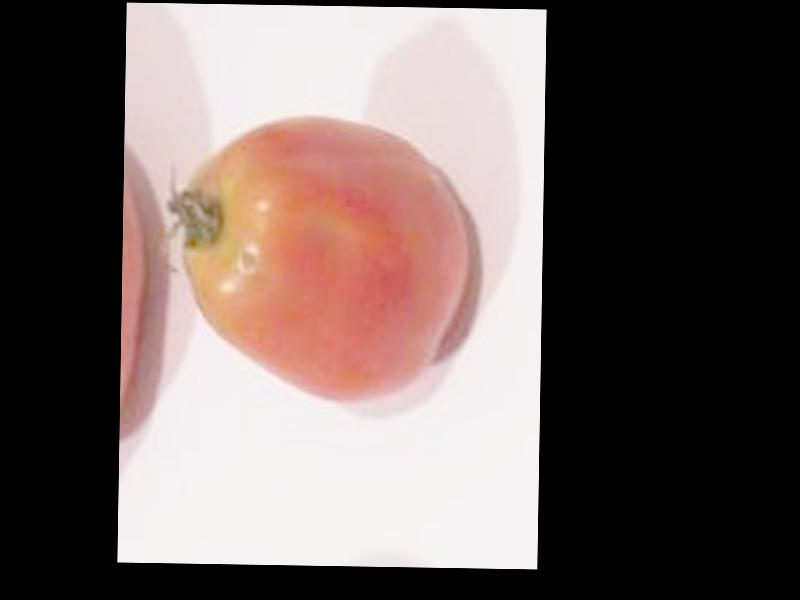Tomato: (176, 115, 464, 403)
